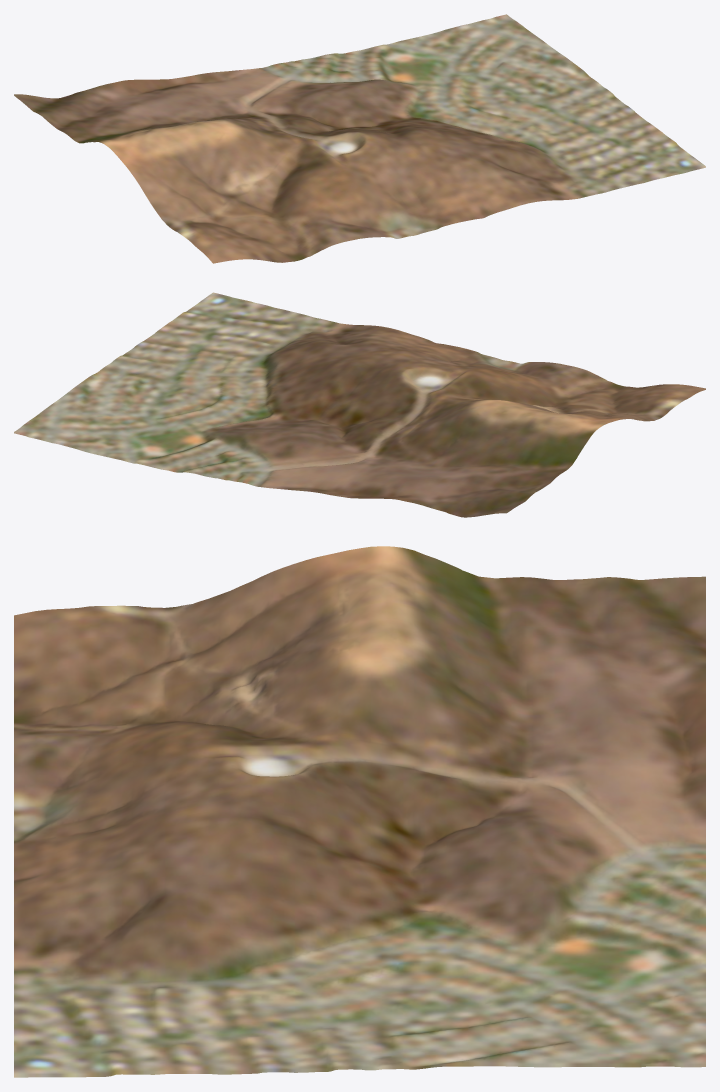
Rendered from terrain_r1_c4.glb.
The picture shows the model from 3 angles, top to bottom: view 1: azimuth 30°, elevation 25°; view 2: azimuth 150°, elevation 25°; view 3: azimuth 270°, elevation 25°; orthographic projection. The views are drawn at different scales.
Parts seen in each view (by area): view 1: terrain_r1_c4_lod0; view 2: terrain_r1_c4_lod0; view 3: terrain_r1_c4_lod0.
Boxes of the visible parts, x1,y1,x2,y2 form: terrain_r1_c4_lod0: [14, 14, 705, 263]; terrain_r1_c4_lod0: [14, 292, 705, 517]; terrain_r1_c4_lod0: [14, 546, 705, 1077].
Bounding box in the file's own units: 1125 × 144 × 787.
Materials: 1 (1 with a texture image).
